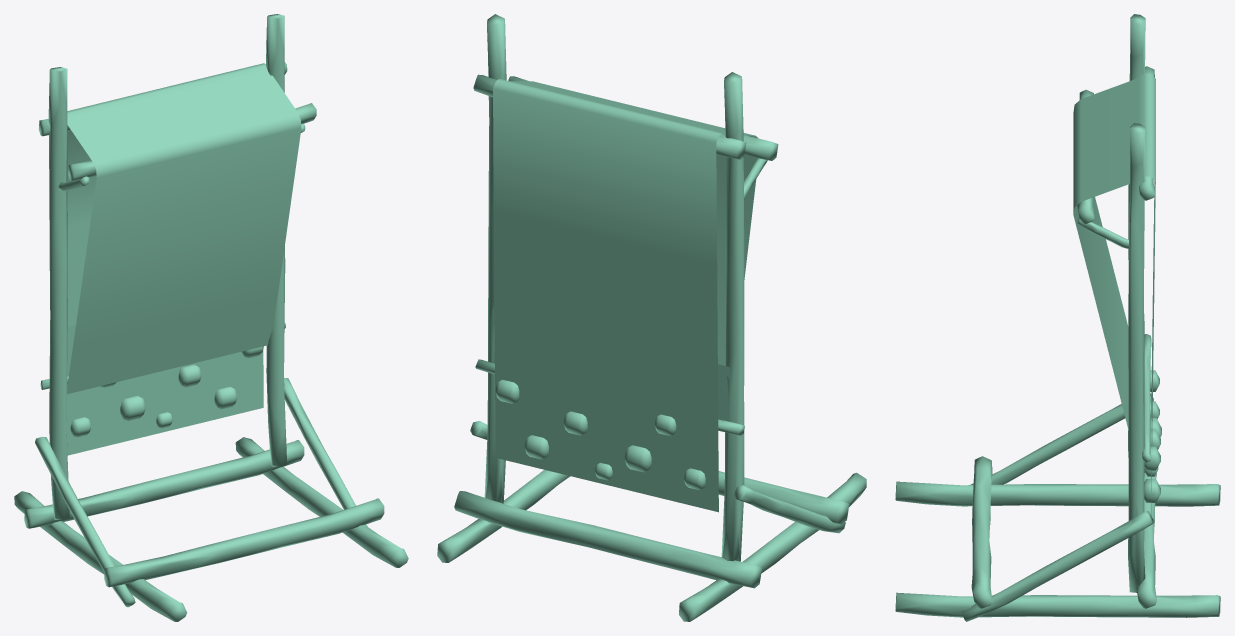
Rendered from SM_Hali_Dokuma.fbx.
3 views of the same model, side by side, from view 1: azimuth 30°, elevation 25°; view 2: azimuth 150°, elevation 25°; view 3: azimuth 270°, elevation 25° (orthographic). The views are drawn at different scales.
Visible parts, largest first — view 1: OBJ_Hali_Dokuma; view 2: OBJ_Hali_Dokuma; view 3: OBJ_Hali_Dokuma.
Boxes of the visible parts, box(x1,y1,x2,y2) form: OBJ_Hali_Dokuma: box(14, 14, 408, 621); OBJ_Hali_Dokuma: box(437, 14, 866, 621); OBJ_Hali_Dokuma: box(895, 14, 1220, 621).
Bounding box in the file's own units: 110 × 183 × 110.
